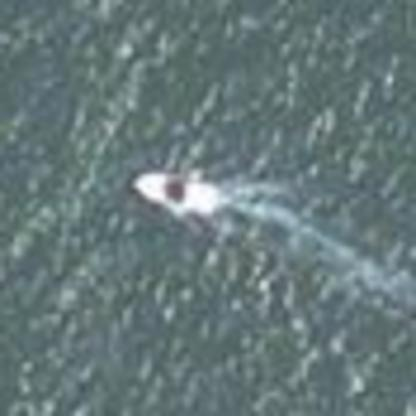ship: (116, 161, 244, 229)
